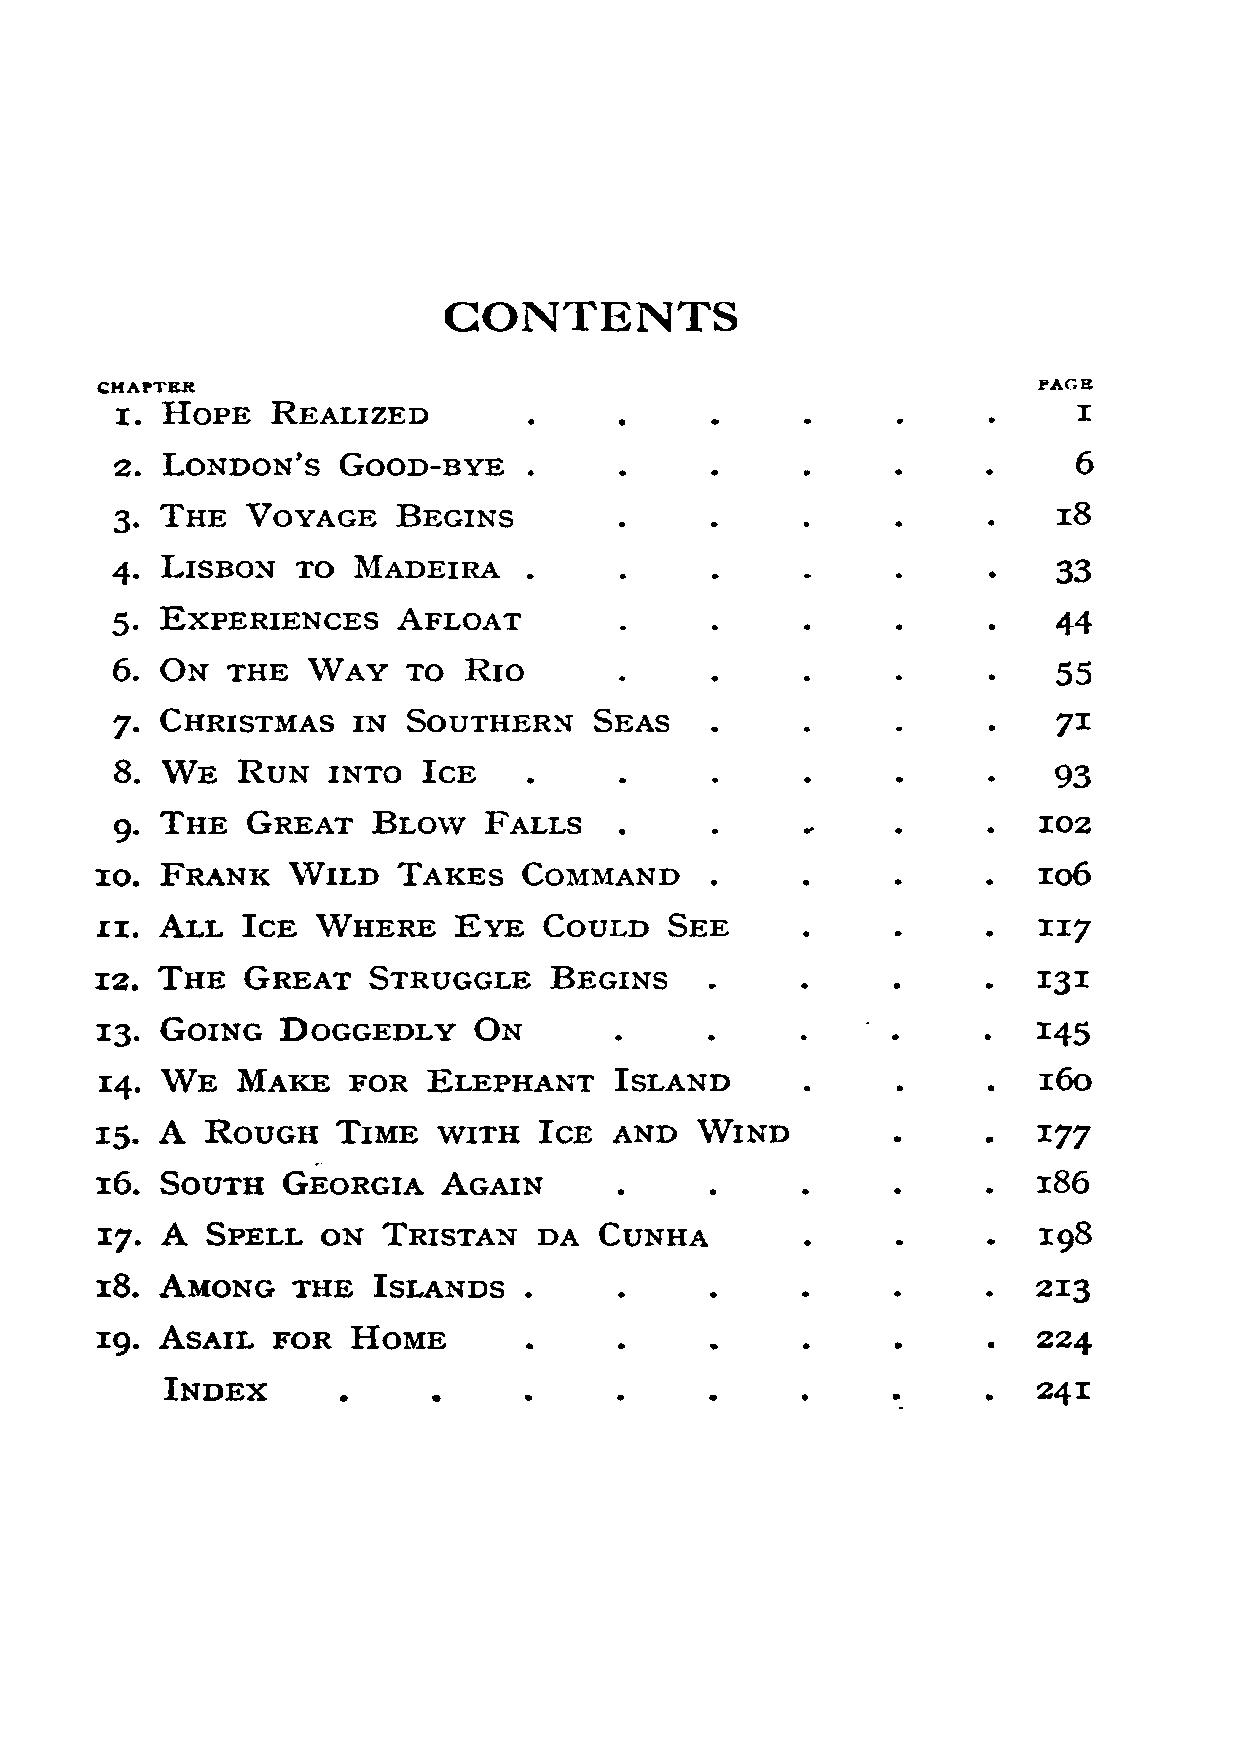TOC_chapter: (94, 1115, 786, 1149), (94, 1219, 709, 1255), (97, 1066, 730, 1100), (91, 960, 670, 994), (109, 804, 584, 845), (109, 706, 674, 741), (93, 859, 679, 892), (97, 909, 731, 939), (109, 499, 517, 539), (109, 599, 522, 637), (91, 1164, 545, 1198), (105, 549, 502, 588), (105, 650, 530, 686), (93, 1266, 505, 1302), (109, 448, 511, 484), (97, 1012, 525, 1045), (110, 753, 480, 786), (93, 1319, 447, 1351), (109, 399, 442, 427), (158, 1373, 272, 1402)
TOC_pagenumber: (1035, 1216, 1096, 1253), (1031, 1270, 1095, 1304), (1037, 1115, 1092, 1155), (1032, 911, 1092, 947), (1029, 1374, 1094, 1406), (1031, 1017, 1091, 1051), (1035, 856, 1092, 891), (1035, 1164, 1088, 1198), (1032, 965, 1095, 994), (1033, 1066, 1095, 1095), (1035, 1327, 1090, 1359), (1048, 607, 1096, 639), (1037, 811, 1094, 837), (1047, 497, 1095, 526), (1052, 705, 1091, 739), (1045, 761, 1095, 788), (1066, 440, 1099, 479), (1049, 659, 1092, 688), (1055, 554, 1090, 588), (1071, 399, 1096, 425)
chapter: (444, 287, 739, 340)
